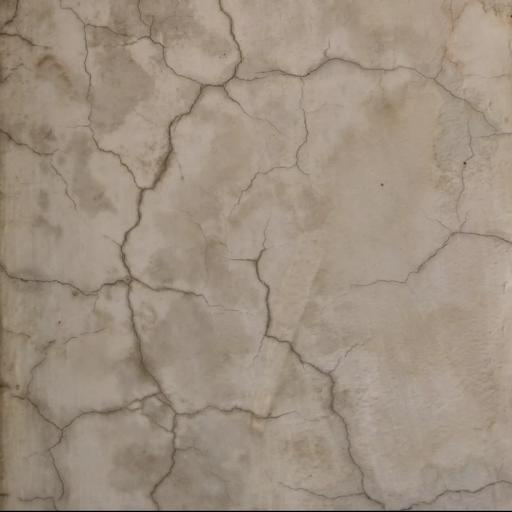major_crack: (0, 23, 404, 507)
